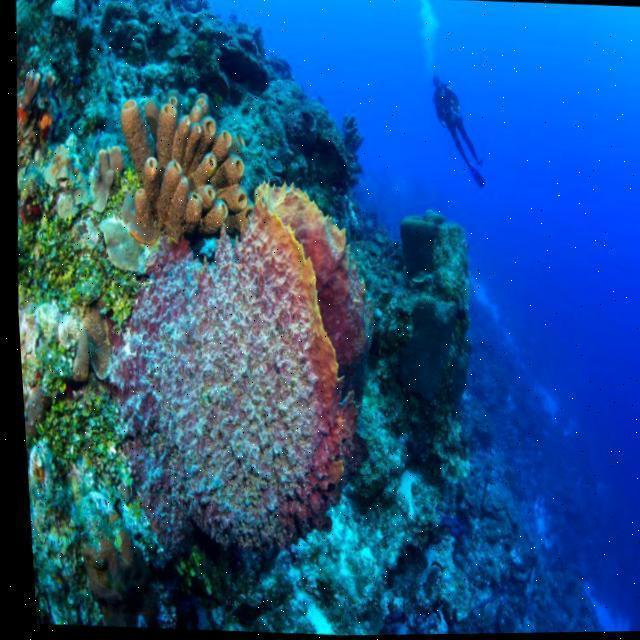Healthy Coral: (3, 57, 382, 592)
